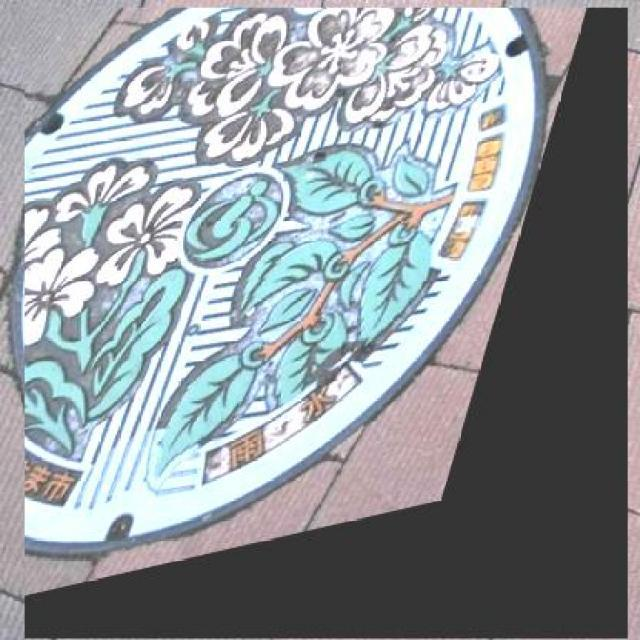Manhole: (24, 7, 628, 638)
